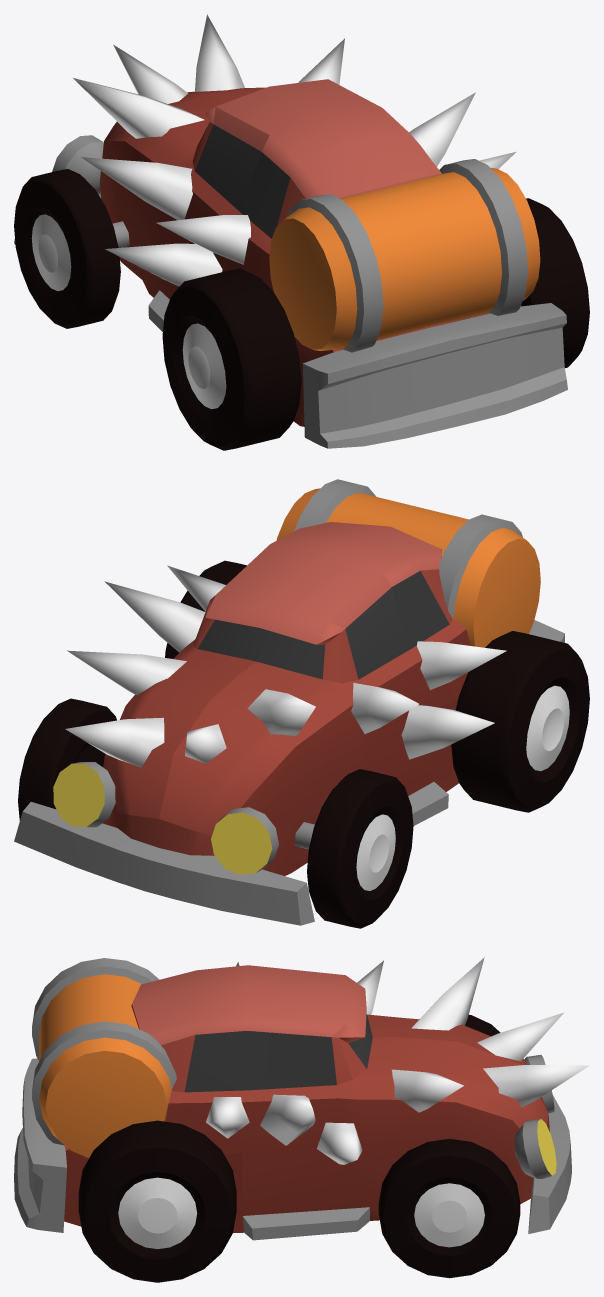
The model's file is Export_Car_Ennemy_Explosive.FBX.
3 renders of one model, top to bottom at view 1: azimuth 30°, elevation 25°; view 2: azimuth 150°, elevation 25°; view 3: azimuth 270°, elevation 25°, orthographic. The views are drawn at different scales.
Parts seen in each view (by area): view 1: Ennemy_Explosive_Car_Body, Ennemy_Explosive_Car_Wheel_03, Ennemy_Explosive_Car_Picks, Ennemy_Explosive_Car_Wheel_01, Ennemy_Explosive_Car_Wheel_02; view 2: Ennemy_Explosive_Car_Body, Ennemy_Explosive_Car_Picks, Ennemy_Explosive_Car_Wheel_03, Ennemy_Explosive_Car_Wheel_01, Ennemy_Explosive_Car_Wheel_04, Ennemy_Explosive_Car_Wheel_02; view 3: Ennemy_Explosive_Car_Body, Ennemy_Explosive_Car_Wheel_02, Ennemy_Explosive_Car_Wheel_04, Ennemy_Explosive_Car_Picks.
Part boxes in pixels (box(x1,y1,x2,y2)): Ennemy_Explosive_Car_Body: box(14, 79, 567, 448); Ennemy_Explosive_Car_Wheel_03: box(162, 268, 301, 450); Ennemy_Explosive_Car_Picks: box(73, 14, 516, 286); Ennemy_Explosive_Car_Wheel_01: box(14, 169, 120, 328); Ennemy_Explosive_Car_Wheel_02: box(521, 198, 589, 368); Ennemy_Explosive_Car_Body: box(14, 479, 564, 925); Ennemy_Explosive_Car_Picks: box(65, 565, 506, 767); Ennemy_Explosive_Car_Wheel_03: box(451, 631, 589, 812); Ennemy_Explosive_Car_Wheel_01: box(307, 769, 413, 928); Ennemy_Explosive_Car_Wheel_04: box(18, 698, 116, 820); Ennemy_Explosive_Car_Wheel_02: box(165, 560, 246, 658); Ennemy_Explosive_Car_Body: box(14, 958, 571, 1240); Ennemy_Explosive_Car_Wheel_02: box(78, 1120, 236, 1282); Ennemy_Explosive_Car_Wheel_04: box(378, 1138, 520, 1278); Ennemy_Explosive_Car_Picks: box(206, 957, 589, 1164).
Bounding box in the file's own units: 5.1 × 3.21 × 7.42.
